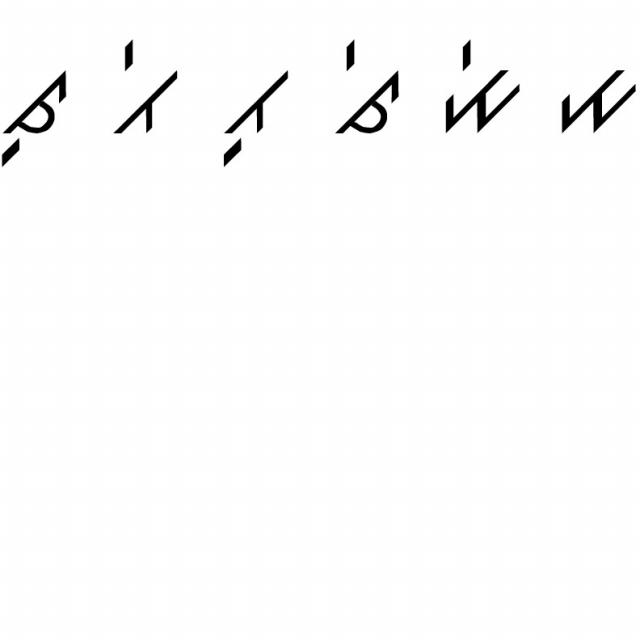be: (92, 36, 188, 138), (330, 36, 405, 144)
bu: (215, 60, 292, 169)
cu: (2, 66, 72, 172)
ma: (550, 48, 636, 150)
me: (444, 31, 524, 136)
